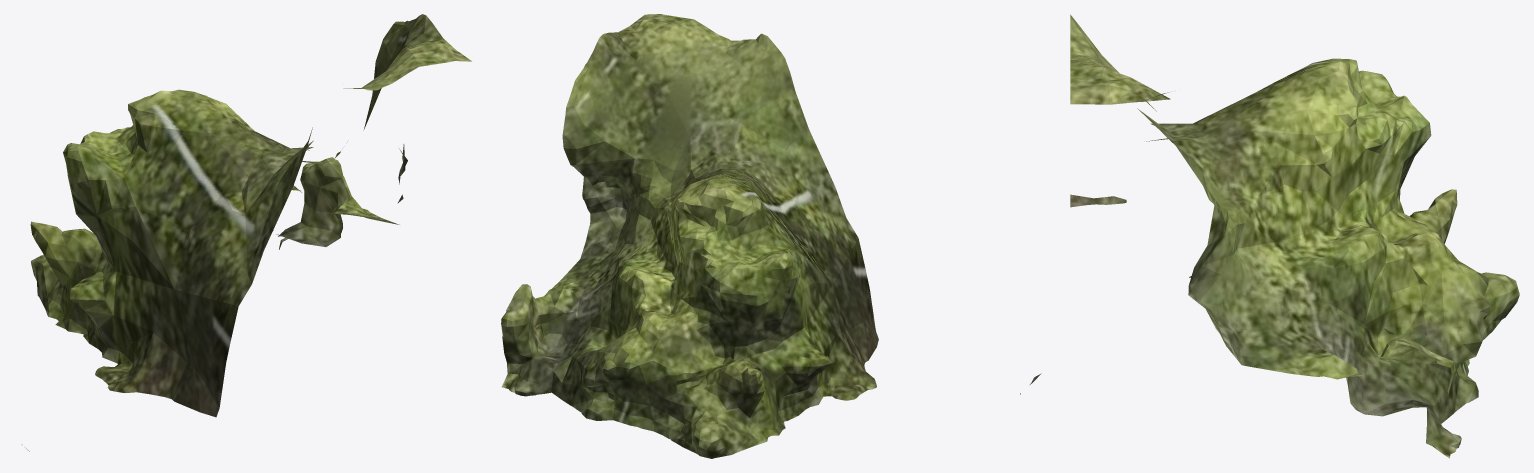
3 views of the same model, side by side, from view 1: azimuth 30°, elevation 25°; view 2: azimuth 150°, elevation 25°; view 3: azimuth 270°, elevation 25° (orthographic). The views are drawn at different scales.
Bounding box in the file's own units: 5.9 × 3.96 × 4.37.
2 materials, 2 textured.
